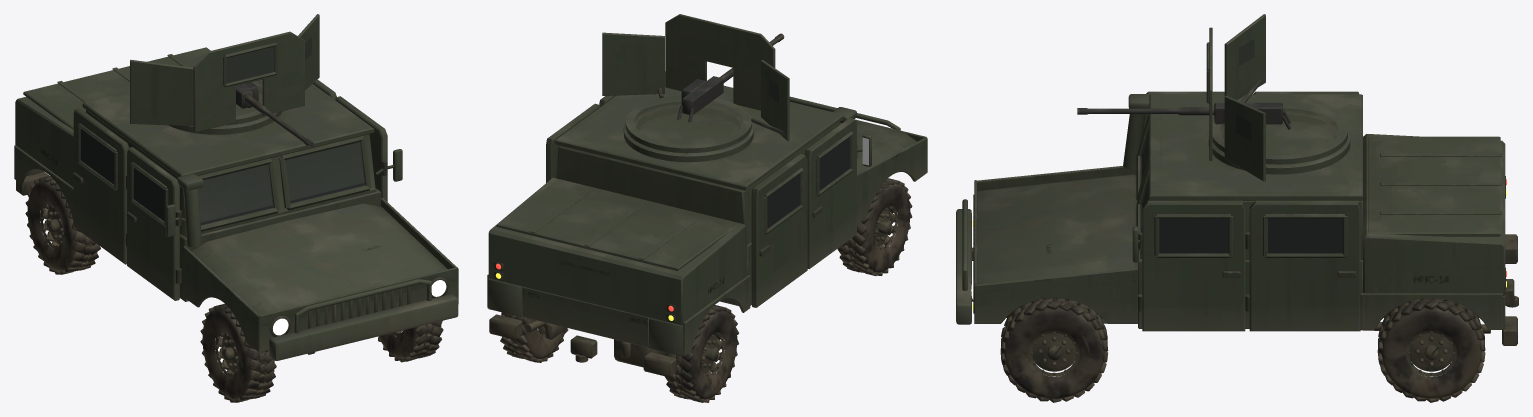
The model's file is m1151_hmmwv_web.glb.
The picture shows the model from 3 angles, left to right: view 1: azimuth 30°, elevation 25°; view 2: azimuth 150°, elevation 25°; view 3: azimuth 270°, elevation 25°; orthographic projection. The views are drawn at different scales.
Visible parts, largest first — view 1: Body_Shell, Turret_Shields, Front_Bumper_And_Intake, Windshield_Glass, Door_Rear_Right_Panel, Door_Front_Right_Panel, Wheel_1_Right_Mesh, Wheel_2_Right_Mesh, Cargo_Lid_Panel, Windshield_Frame, Wheel_1_Left_Mesh, Turret_Windows (+9 smaller); view 2: Body_Shell, Turret_Shields, Cargo_Lid_Panel, Door_Rear_Right_Panel, Door_Front_Right_Panel, Wheel_1_Right_Mesh, Wheel_2_Right_Mesh, Turret_Ring, Wheel_2_Left_Mesh, M2, Frame_And_Running_Gear, Door_Rear_Right_Glass (+5 smaller); view 3: Body_Shell, Cargo_Lid_Panel, Door_Rear_Left_Panel, Door_Front_Left_Panel, Wheel_2_Left_Mesh, Wheel_1_Left_Mesh, Turret_Shields, Front_Bumper_And_Intake, Door_Rear_Left_Glass, Door_Rear_Left_Window_Backing, Door_Front_Left_Glass, Door_Front_Left_Window_Backing (+5 smaller).
Boxes of the visible parts, <box> form: Body_Shell: <box>14,80,458,352</box>; Turret_Shields: <box>130,14,319,132</box>; Front_Bumper_And_Intake: <box>177,173,458,360</box>; Windshield_Glass: <box>198,142,365,225</box>; Door_Rear_Right_Panel: <box>73,108,128,264</box>; Door_Front_Right_Panel: <box>126,147,181,300</box>; Wheel_1_Right_Mesh: <box>200,304,276,402</box>; Wheel_2_Right_Mesh: <box>25,175,100,274</box>; Cargo_Lid_Panel: <box>23,47,210,129</box>; Windshield_Frame: <box>198,136,371,231</box>; Wheel_1_Left_Mesh: <box>378,320,443,362</box>; Turret_Windows: <box>226,37,311,83</box>; Body_Shell: <box>487,71,927,377</box>; Turret_Shields: <box>602,14,789,153</box>; Cargo_Lid_Panel: <box>496,179,737,270</box>; Door_Rear_Right_Panel: <box>751,154,807,307</box>; Door_Front_Right_Panel: <box>805,118,857,269</box>; Wheel_1_Right_Mesh: <box>837,178,912,275</box>; Wheel_2_Right_Mesh: <box>664,305,738,402</box>; Turret_Ring: <box>623,101,753,162</box>; Wheel_2_Left_Mesh: <box>500,312,568,362</box>; M2: <box>677,33,784,122</box>; Frame_And_Running_Gear: <box>525,320,666,367</box>; Door_Rear_Right_Glass: <box>767,173,800,228</box>; Body_Shell: <box>973,94,1518,345</box>; Cargo_Lid_Panel: <box>1368,136,1501,236</box>; Door_Rear_Left_Panel: <box>1245,200,1360,331</box>; Door_Front_Left_Panel: <box>1138,200,1245,331</box>; Wheel_2_Left_Mesh: <box>1377,298,1485,402</box>; Wheel_1_Left_Mesh: <box>1000,298,1108,402</box>; Turret_Shields: <box>1206,14,1347,181</box>; Front_Bumper_And_Intake: <box>956,94,1149,324</box>; Door_Rear_Left_Glass: <box>1267,218,1342,253</box>; Door_Rear_Left_Window_Backing: <box>1268,218,1342,253</box>; Door_Front_Left_Glass: <box>1159,218,1228,253</box>; Door_Front_Left_Window_Backing: <box>1159,218,1228,253</box>.
Size of the model in its own units: 2.57 by 2.93 by 4.93.
8 materials, 2 textured.
